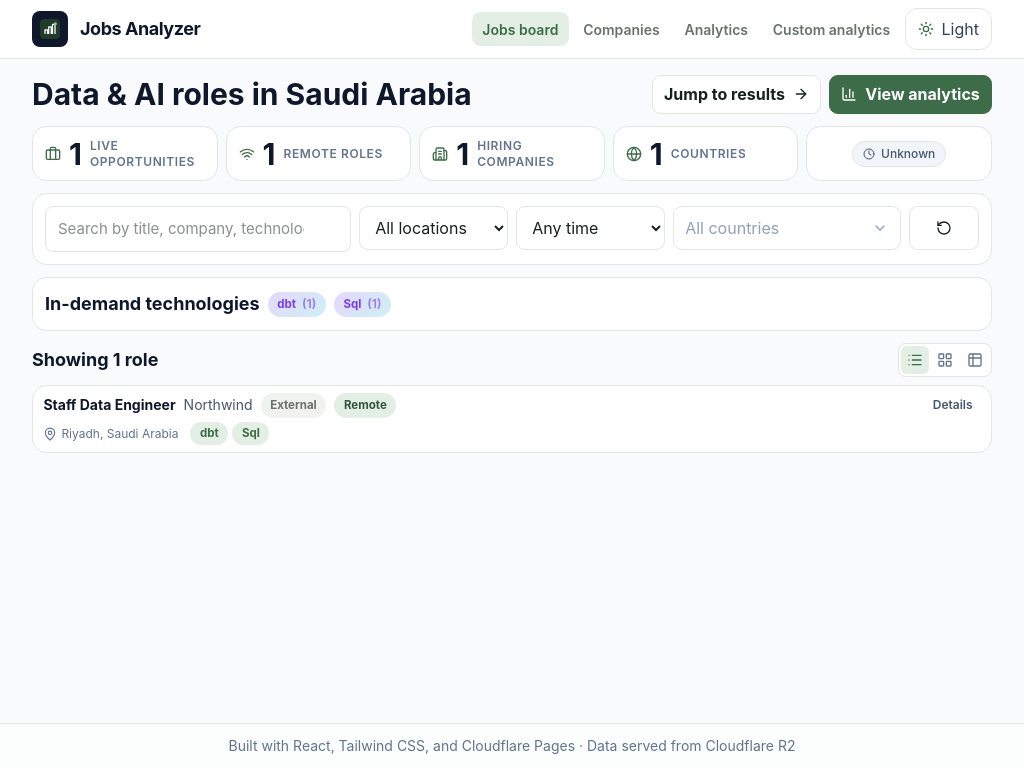
Test: job layout toggle › starts in list view and switches to cards
Expected: the link "Staff Data Engineer" is shown, [43,396,176,413]
Expected: the link "Role details" is not shown
Click the button named "Card view".
click(945, 360)  # box [931,346,959,374]
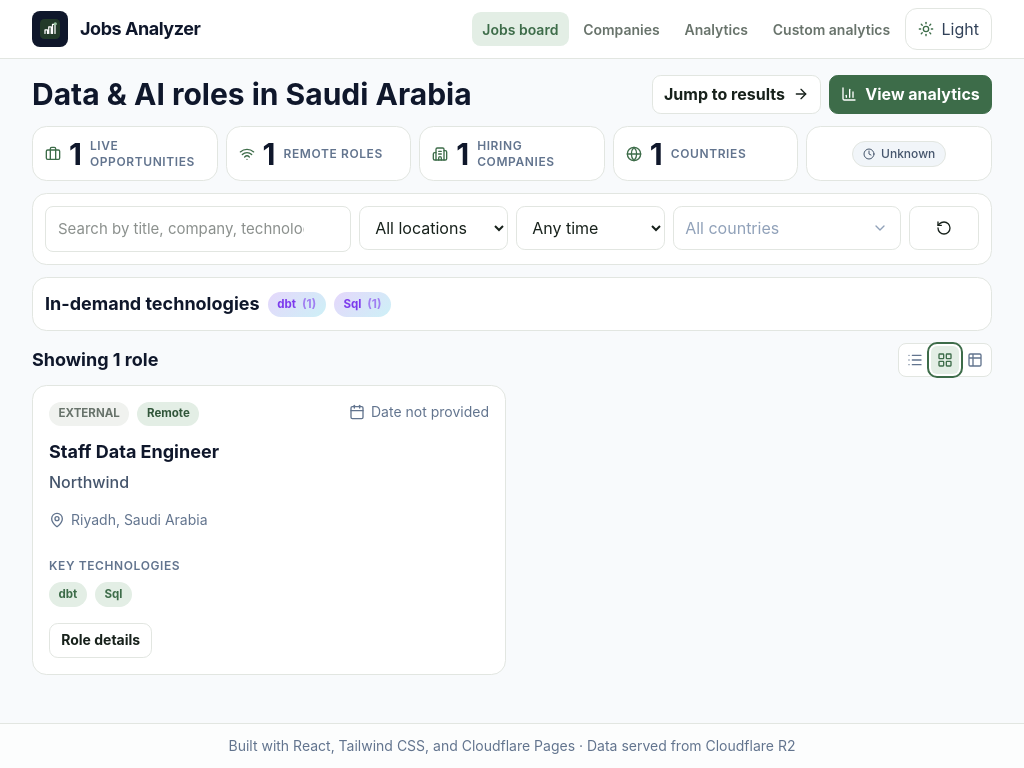
Expected: the link "Role details" is shown, [49,623,152,658]
